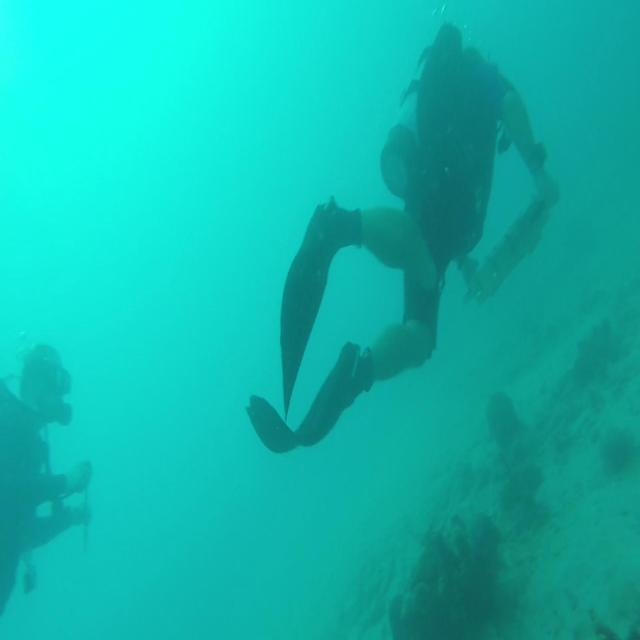human: (245, 19, 560, 454), (0, 340, 93, 615)
